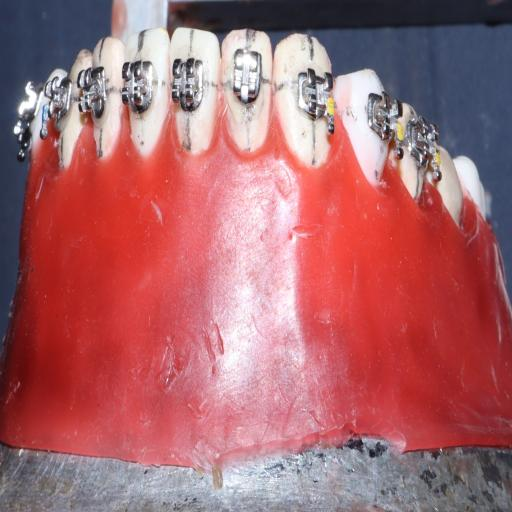correct_brace: (169, 53, 212, 118)
incorrect_brace: (274, 28, 338, 174), (221, 16, 275, 160), (292, 60, 338, 139), (230, 46, 265, 108)
